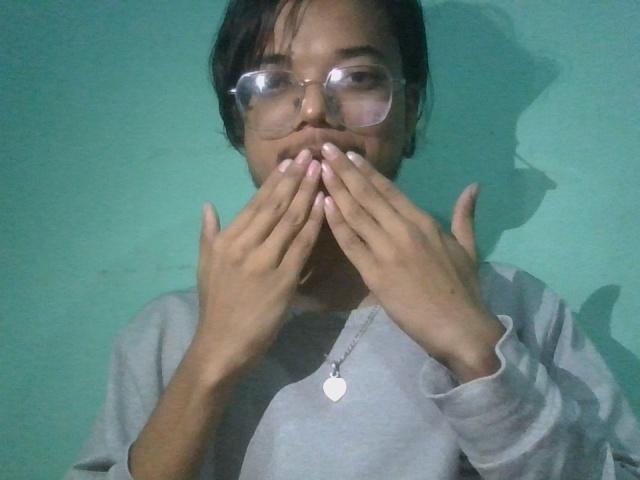Thank You: (152, 100, 530, 434)
